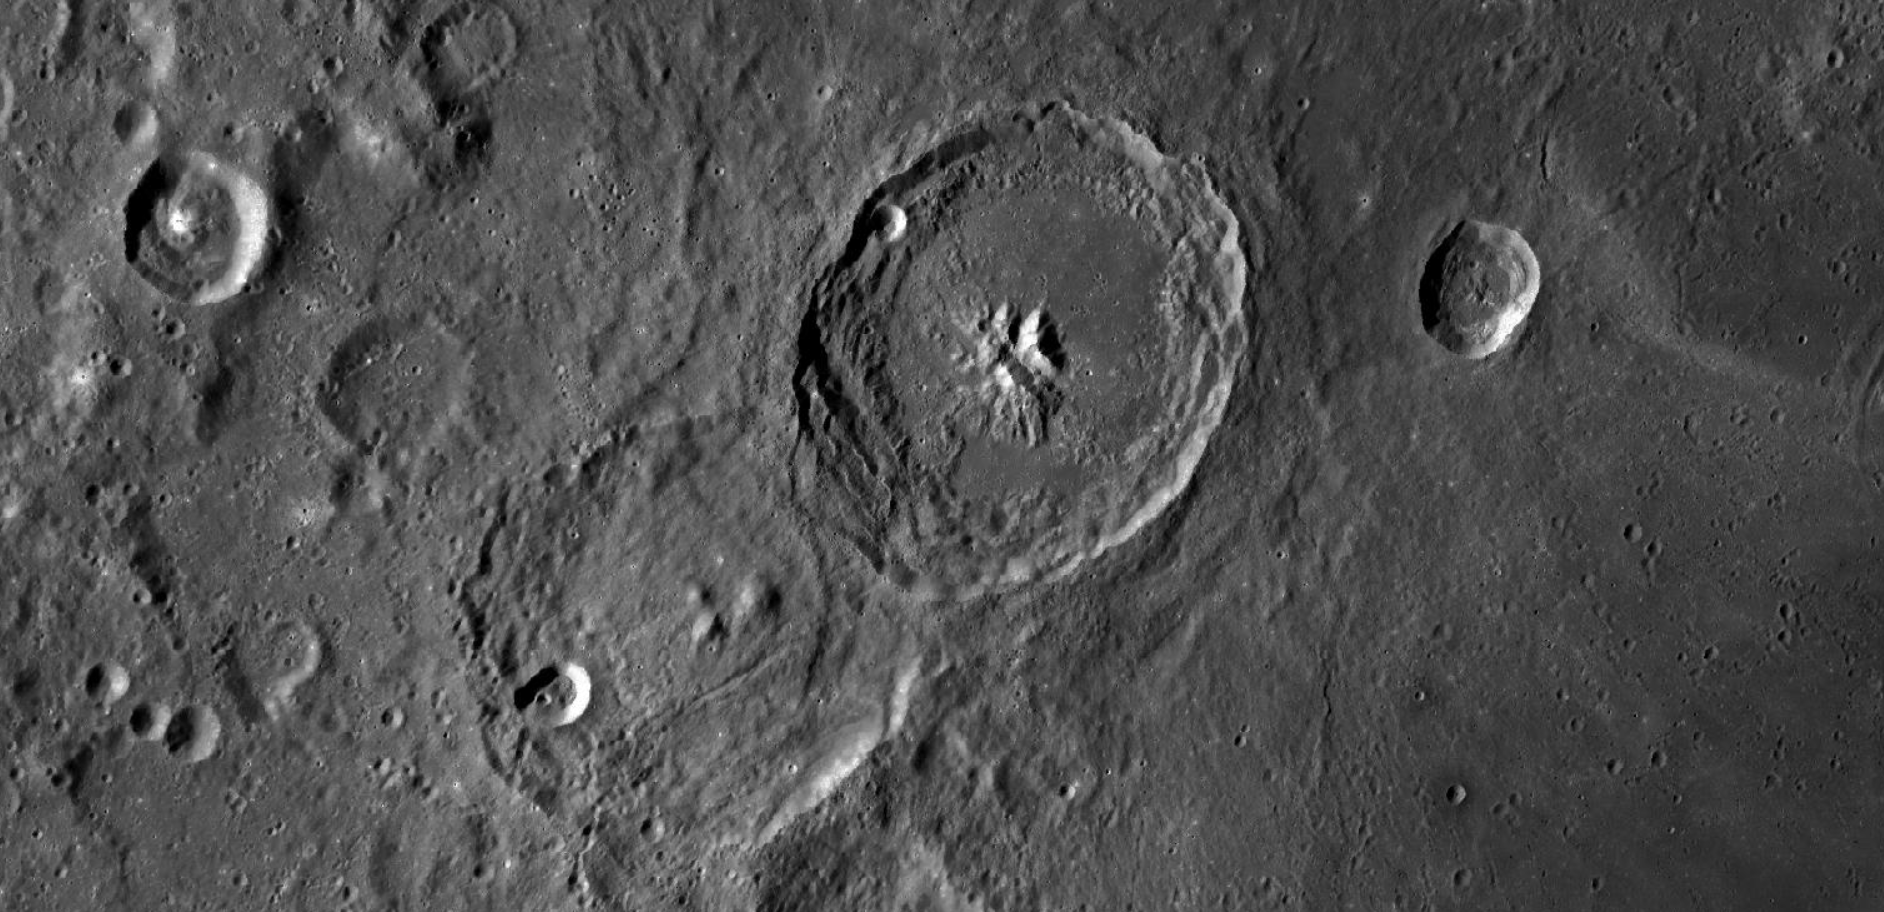crater: (755, 76, 1294, 680), (1382, 167, 1587, 417), (84, 144, 317, 328), (399, 2, 553, 121), (239, 598, 339, 702), (1431, 769, 1487, 818)
